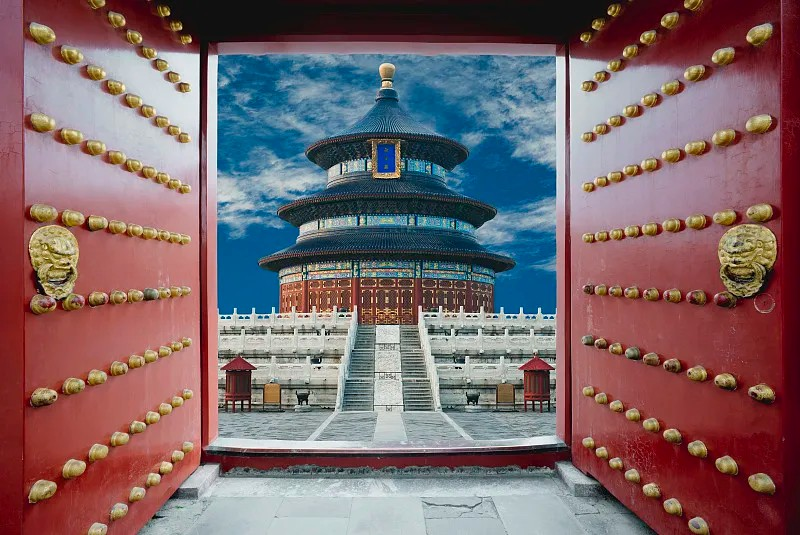Heaven: (256, 61, 515, 326)
